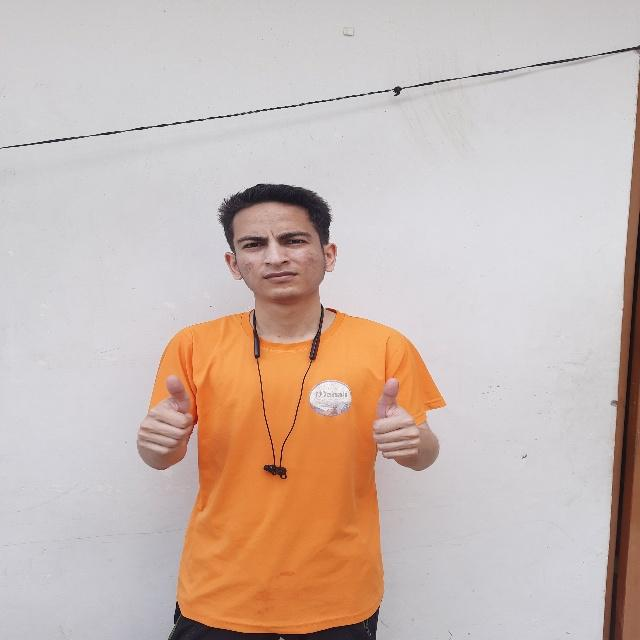Thumbs Up: (360, 370, 427, 473), (132, 372, 198, 467)
